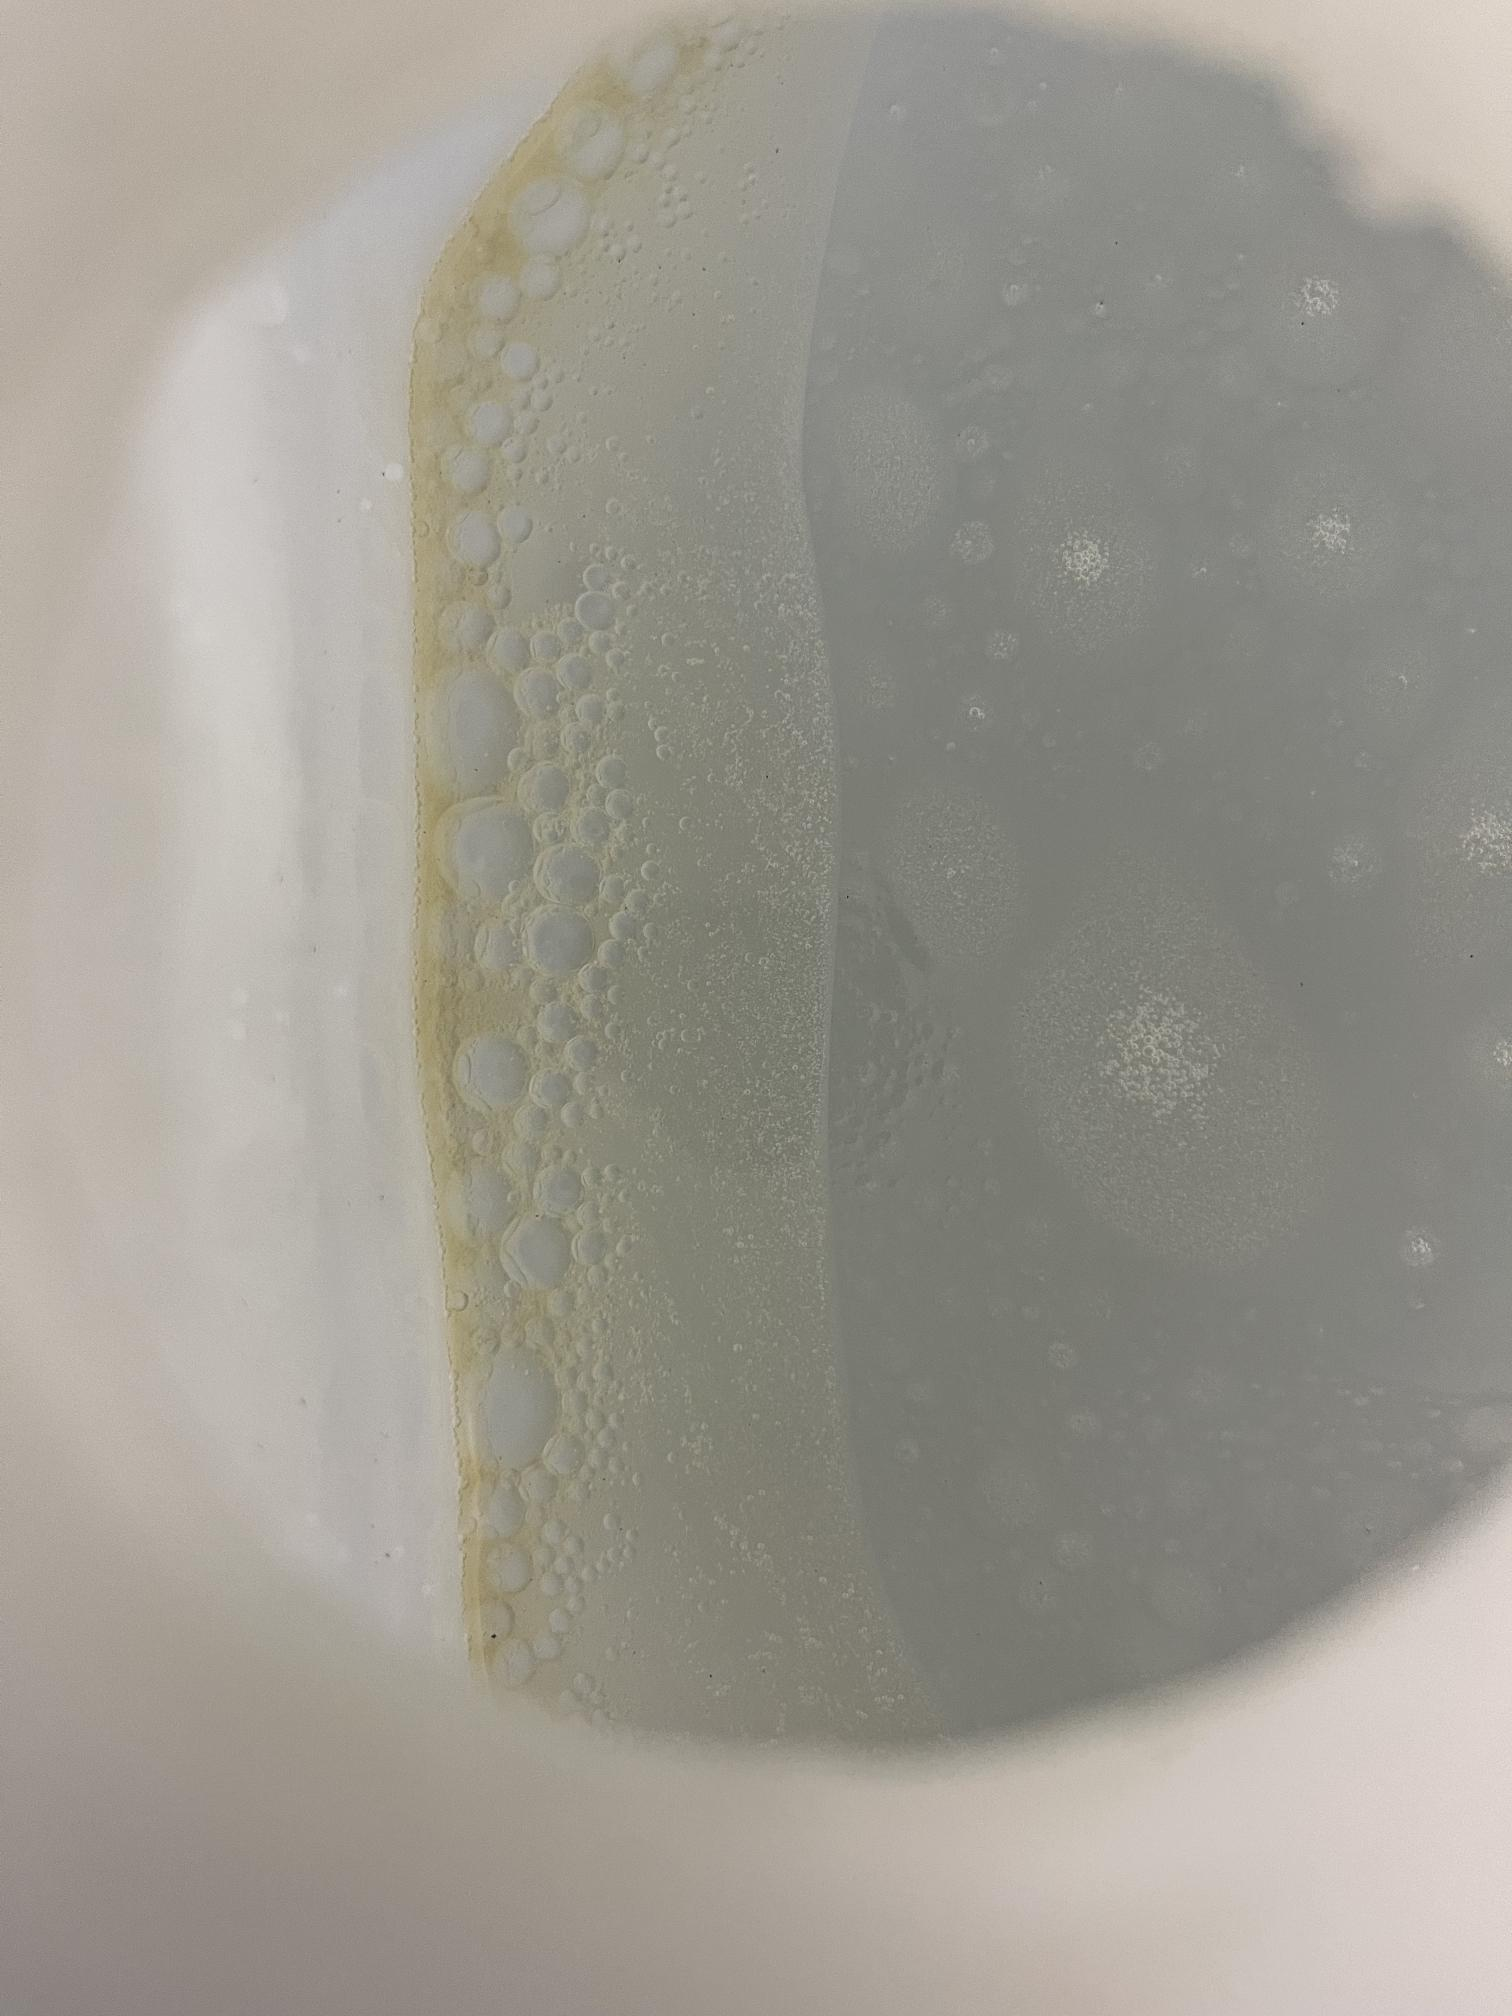Presenca de Oleo - - 110ml: (114, 90, 1450, 1905)
